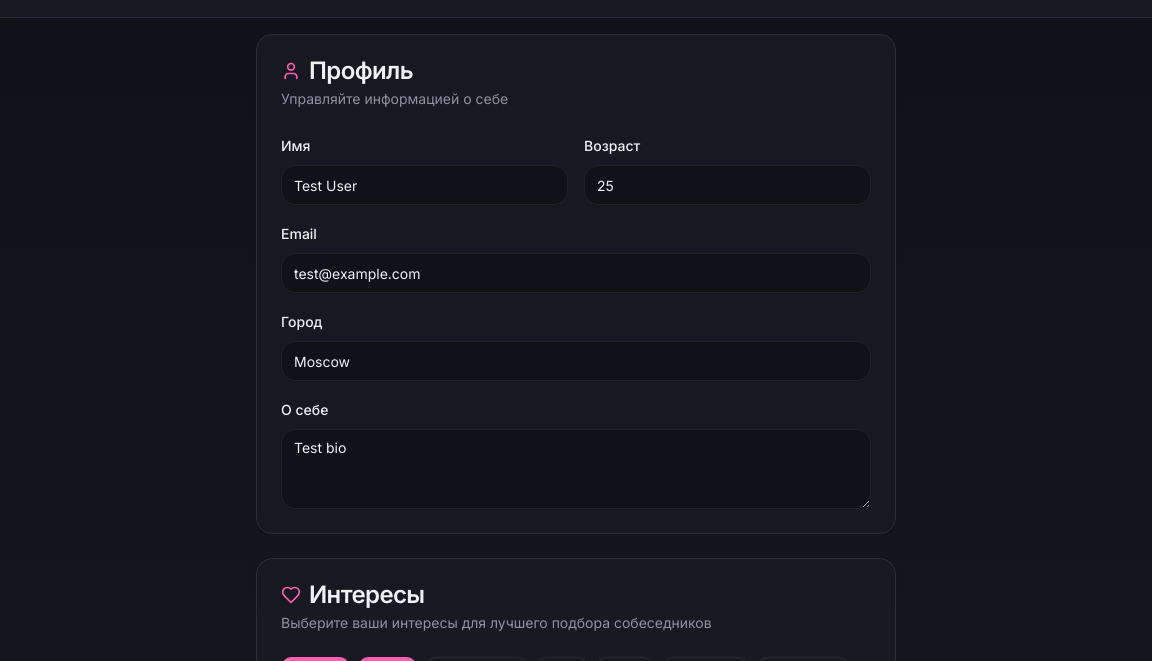
Test case: Settings Component › enables save button when changes are made
Replace the text in the field showing "Test User" with "New Name". click: (424,185)
box: [281, 165, 568, 205]
(page scrolled)
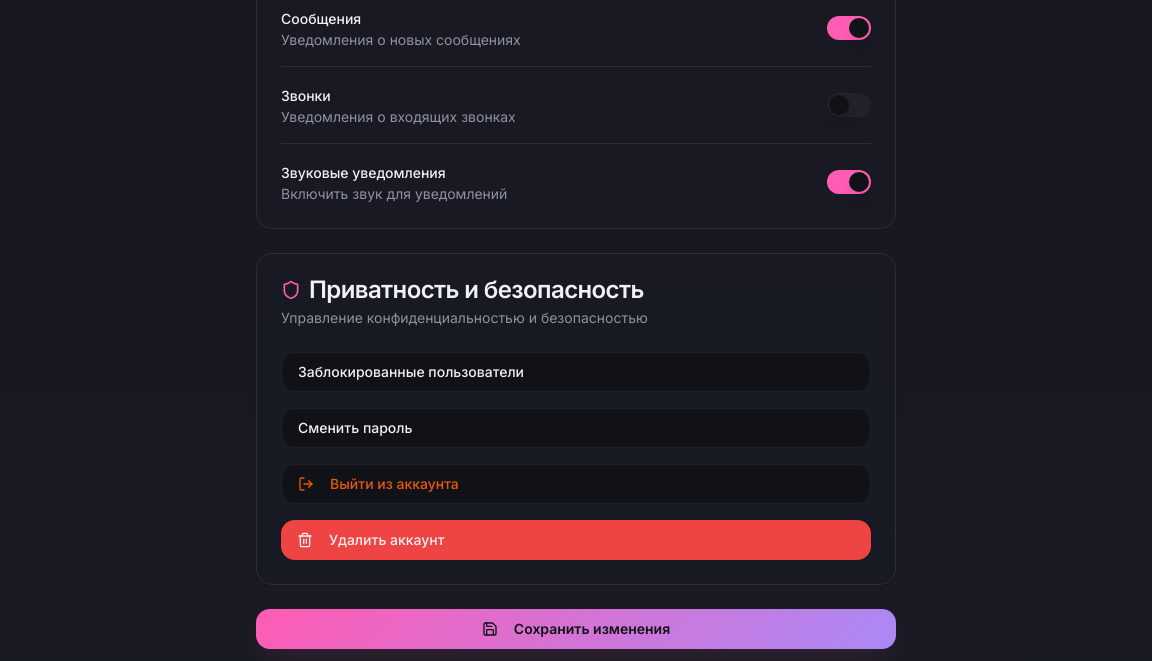
Check: the button "Сохранить изменения" is enabled, box [256, 609, 896, 649]
